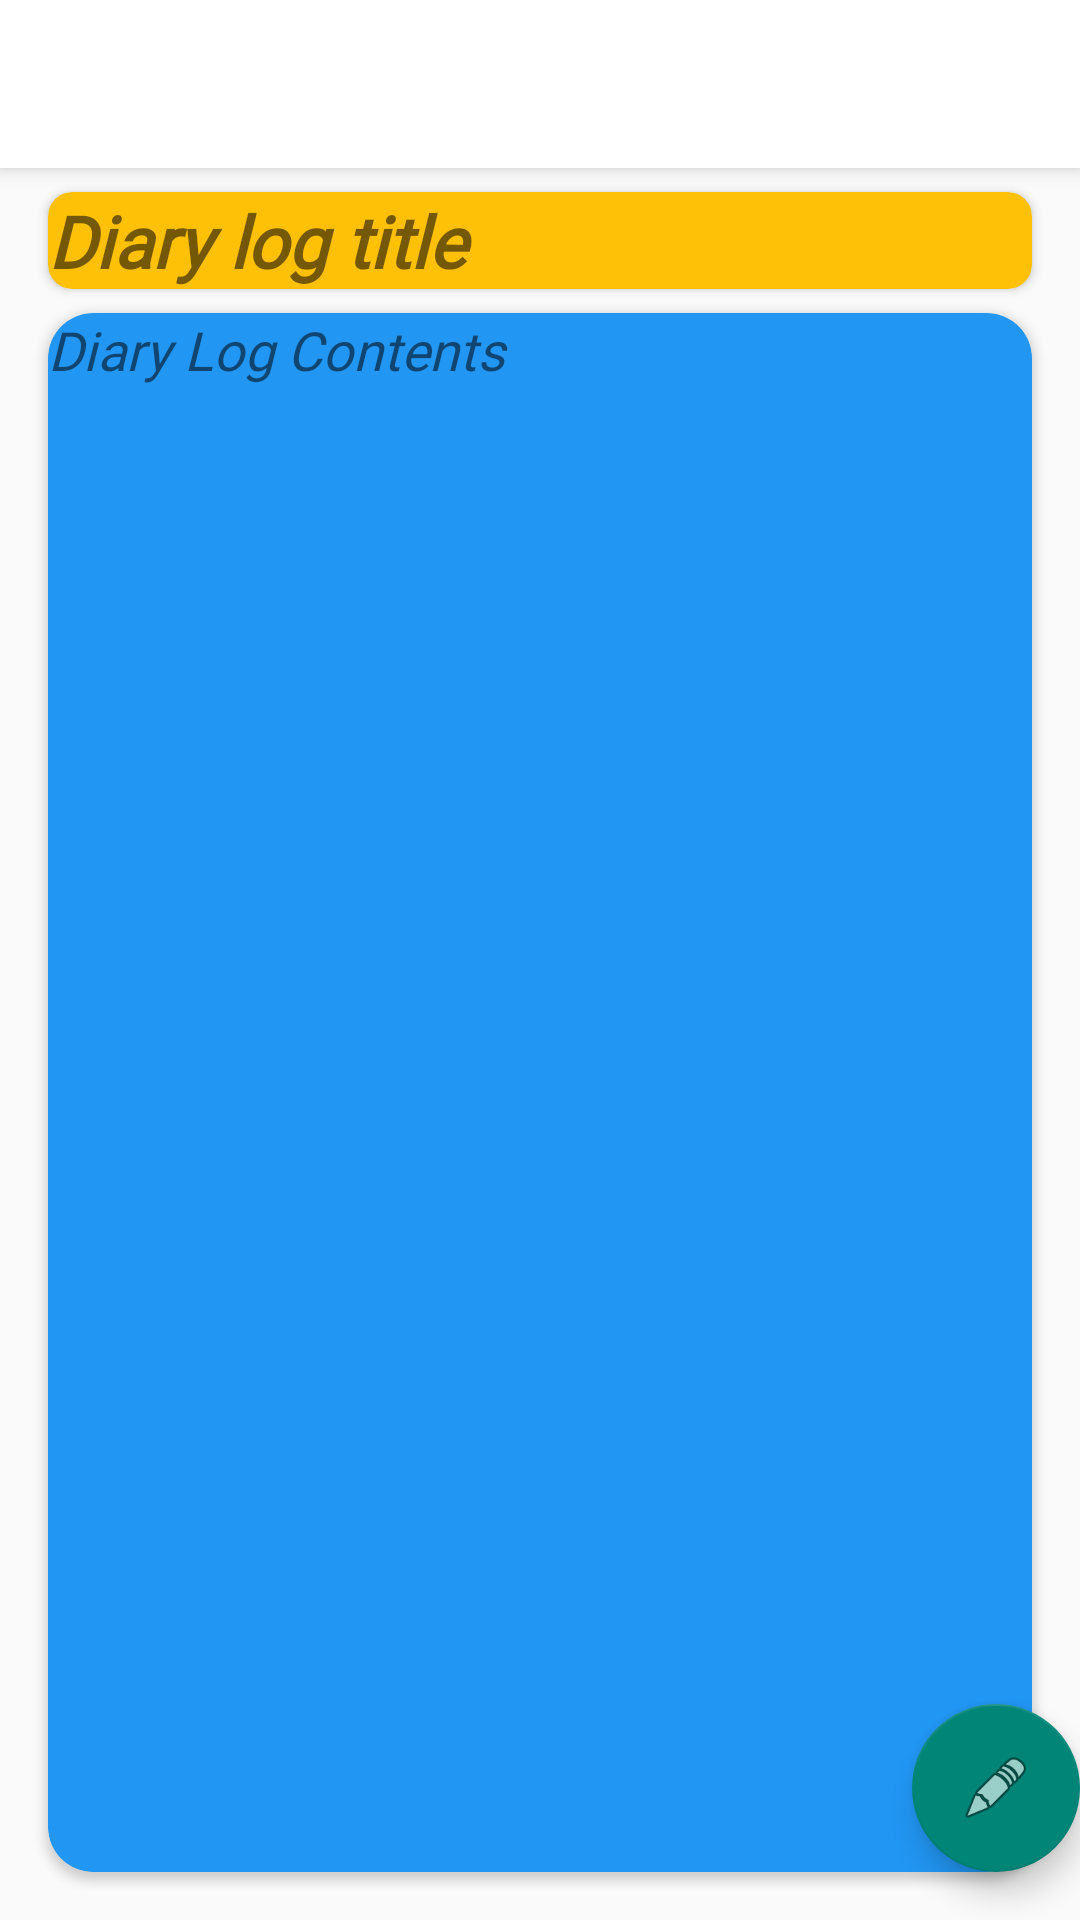

Icon click points for this 1080px×1920px phone screenshot, format (x=x, y=y):
Add New Note: (x=996, y=1788)
